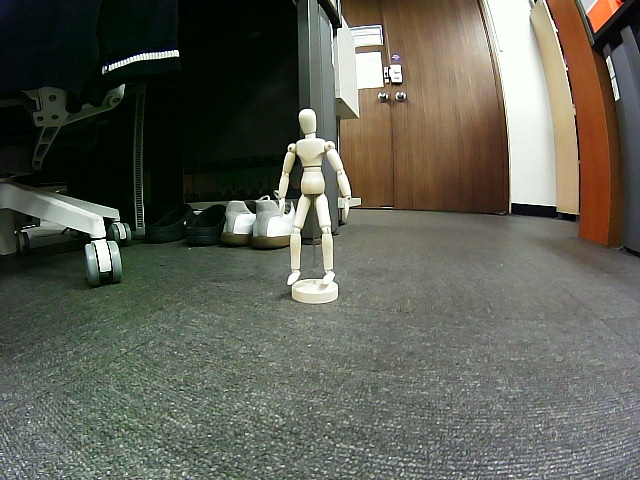person: (278, 108, 351, 285)
